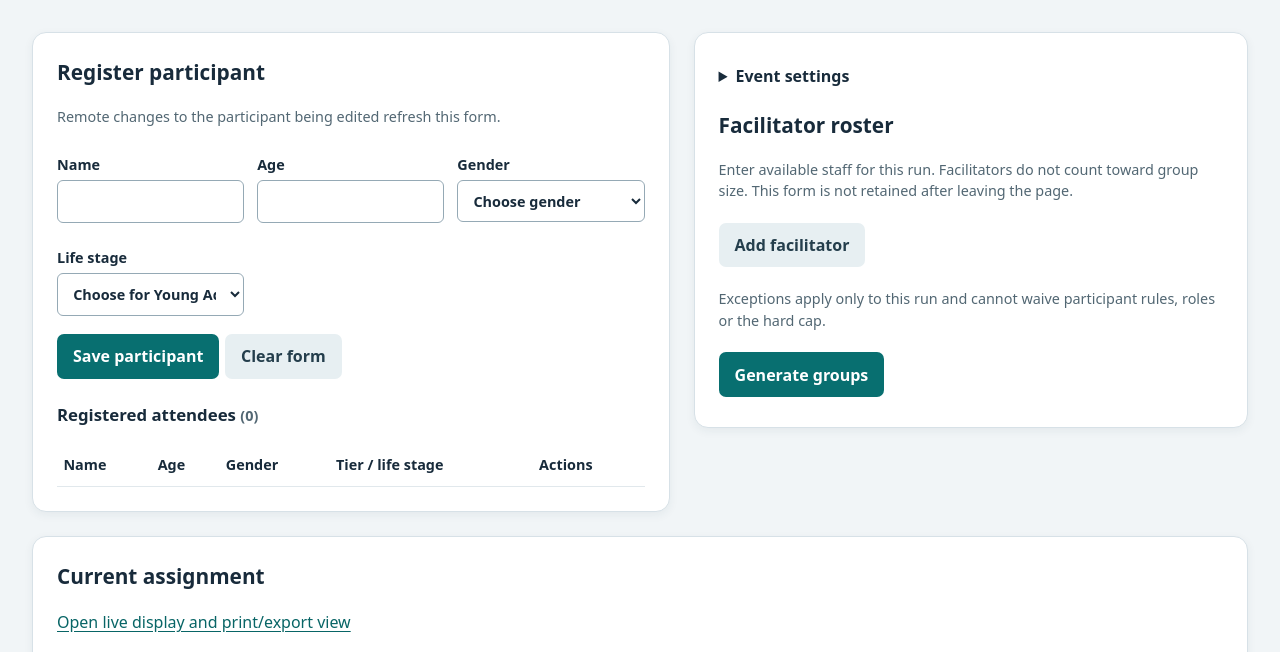
Test: React registration › clears one-run permissions and the old assignment when verification fails after generation
Click the button "Add facilitator".
click(792, 245)  # box [719,223,866,267]
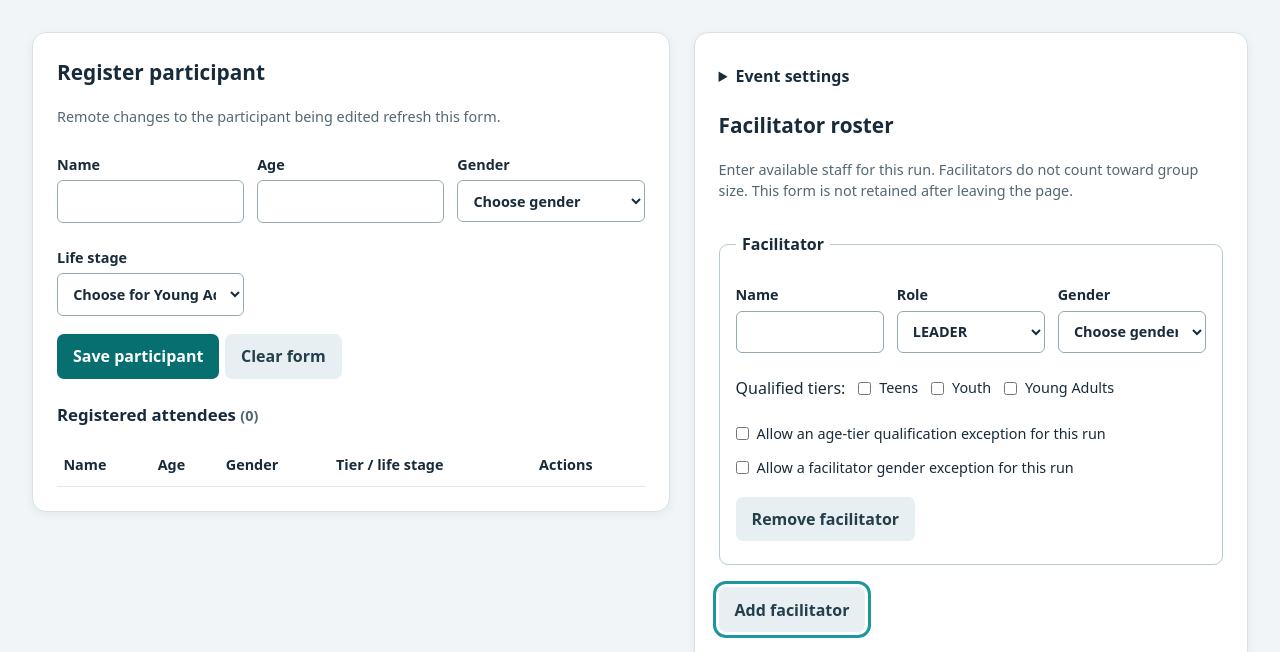
Type "Sam" into the field labelled "Name" below "Facilitator roster".
click(810, 332); type("Sam")  # box [736,311,884,353]
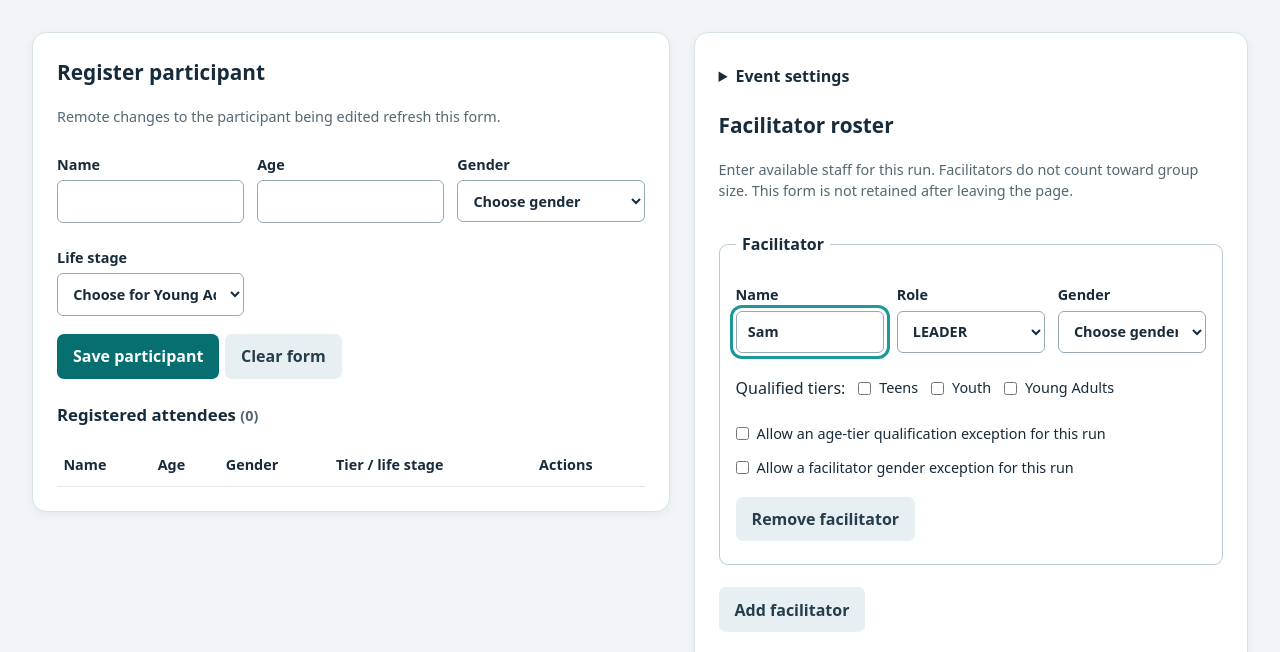
Select "MALE" in the dropdown labelled "Gender" below "Facilitator roster" at (1132, 332), box [1058,311,1206,353]
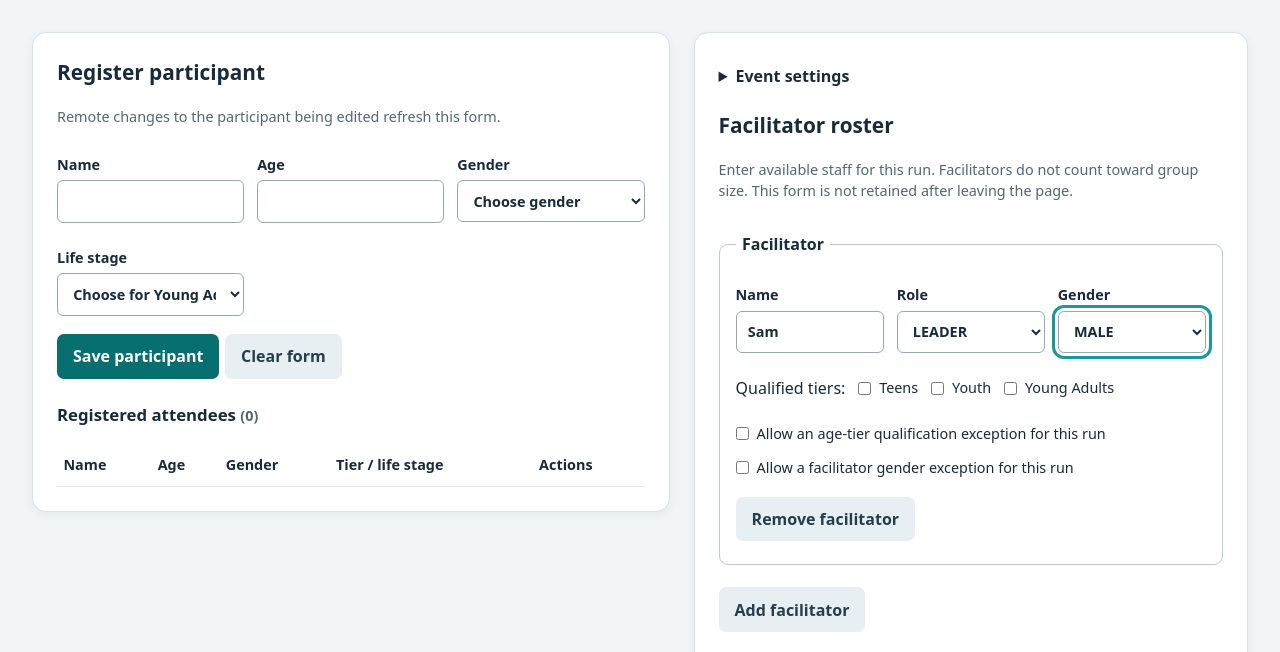
Click the checkbox labelled "Youth".
click(938, 388)  # box [931,382,944,395]
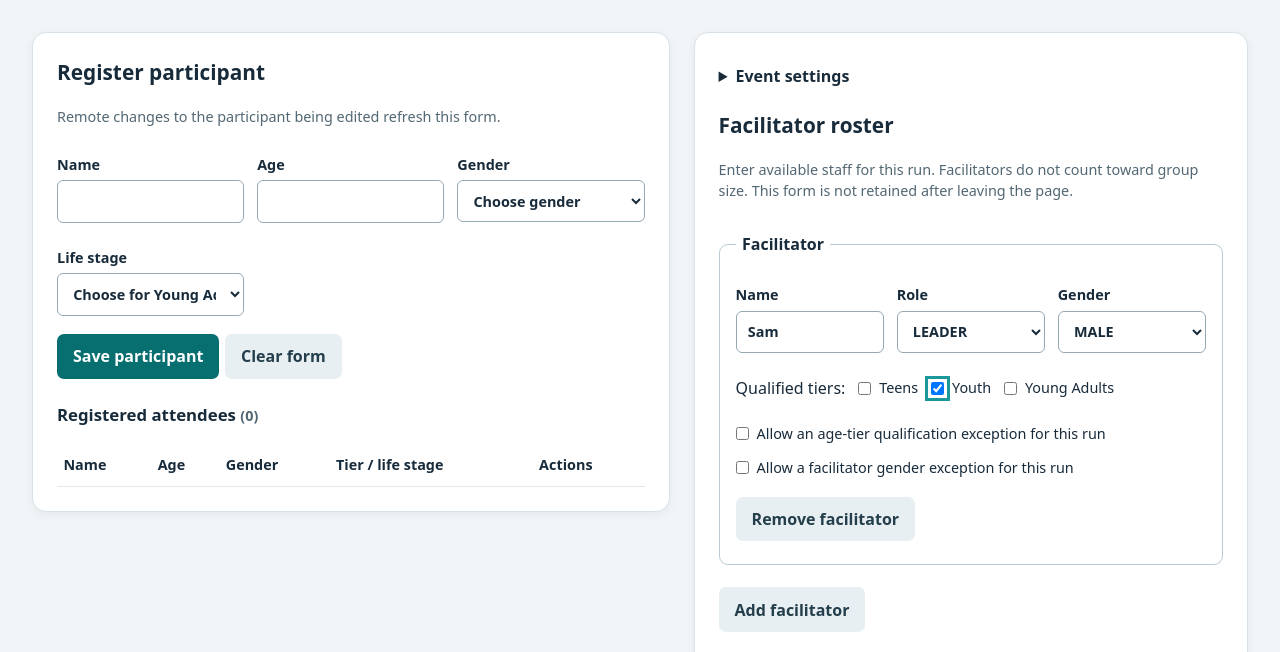
Click the checkbox labelled "Allow an age-tier qualification exception for this run".
click(742, 434)  # box [736,427,749,440]
(page scrolled)
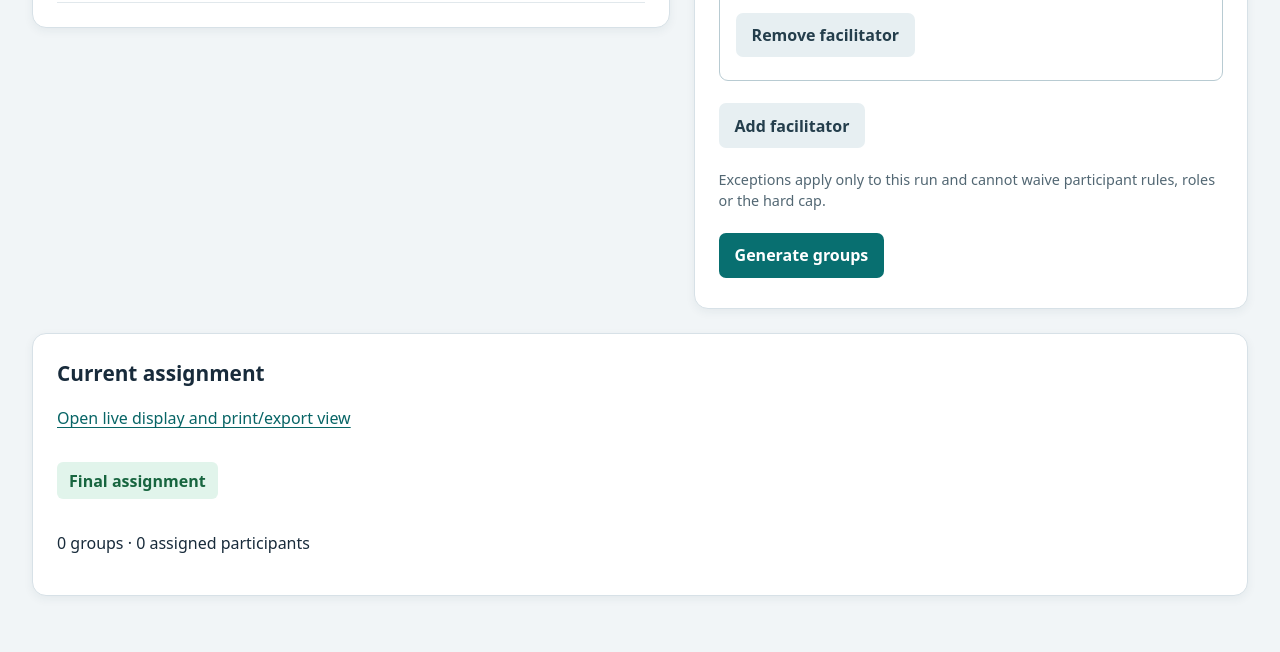
Click the button "Generate groups".
click(802, 255)  # box [719,233,884,278]
(page scrolled)
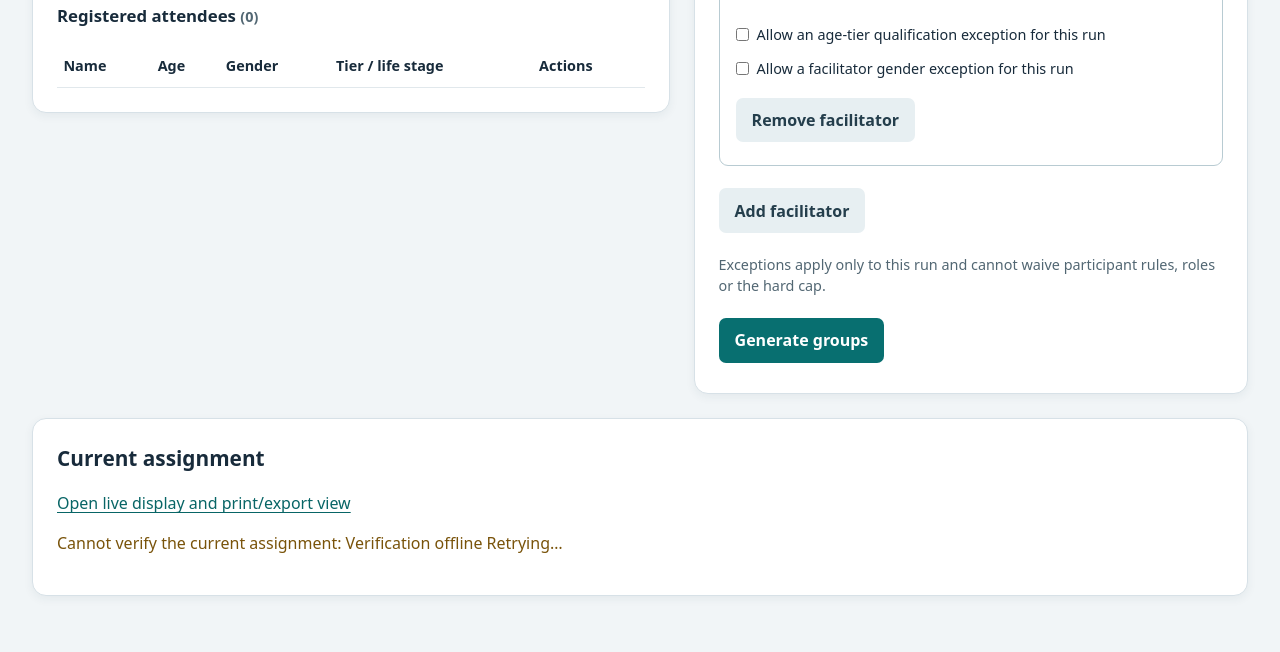
Check: the checkbox labelled "Allow an age-tier qualification exception for this run" is not checked, box [736,28,749,41]
Check: the message shows "Verification offline", box [346,532,482,554]
Check: the text "Final assignment" is gone
